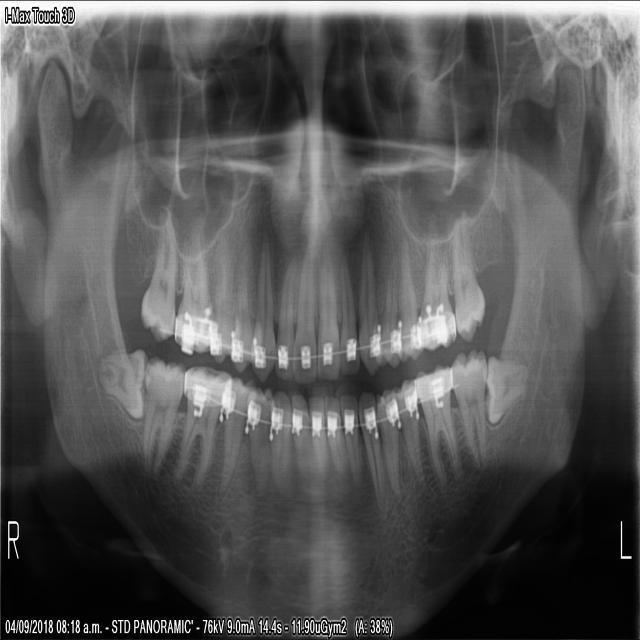LCD: (340, 390, 364, 482)
LCU: (357, 224, 380, 370)
LID: (326, 392, 350, 483), (308, 389, 331, 483)
LIU: (318, 248, 341, 385), (336, 250, 360, 374)
LMD: (414, 362, 464, 490), (449, 343, 488, 468), (396, 379, 425, 484), (488, 360, 531, 425)
LMU: (451, 212, 487, 343), (420, 224, 456, 353)
LPMD: (359, 384, 387, 519), (377, 388, 404, 502)
LPMU: (398, 224, 424, 360), (379, 229, 403, 370), (425, 228, 427, 279)
RCD: (245, 378, 274, 497)
RCU: (249, 232, 275, 385)
RID: (271, 388, 293, 499), (291, 389, 316, 479)
RIU: (293, 252, 320, 385), (275, 255, 294, 377)
RMD: (172, 362, 232, 498), (141, 353, 186, 475), (96, 348, 145, 419)
RMU: (173, 213, 215, 357), (141, 202, 180, 342)
RPMD: (219, 370, 249, 492)
RPMU: (208, 227, 235, 368), (229, 230, 251, 369)
